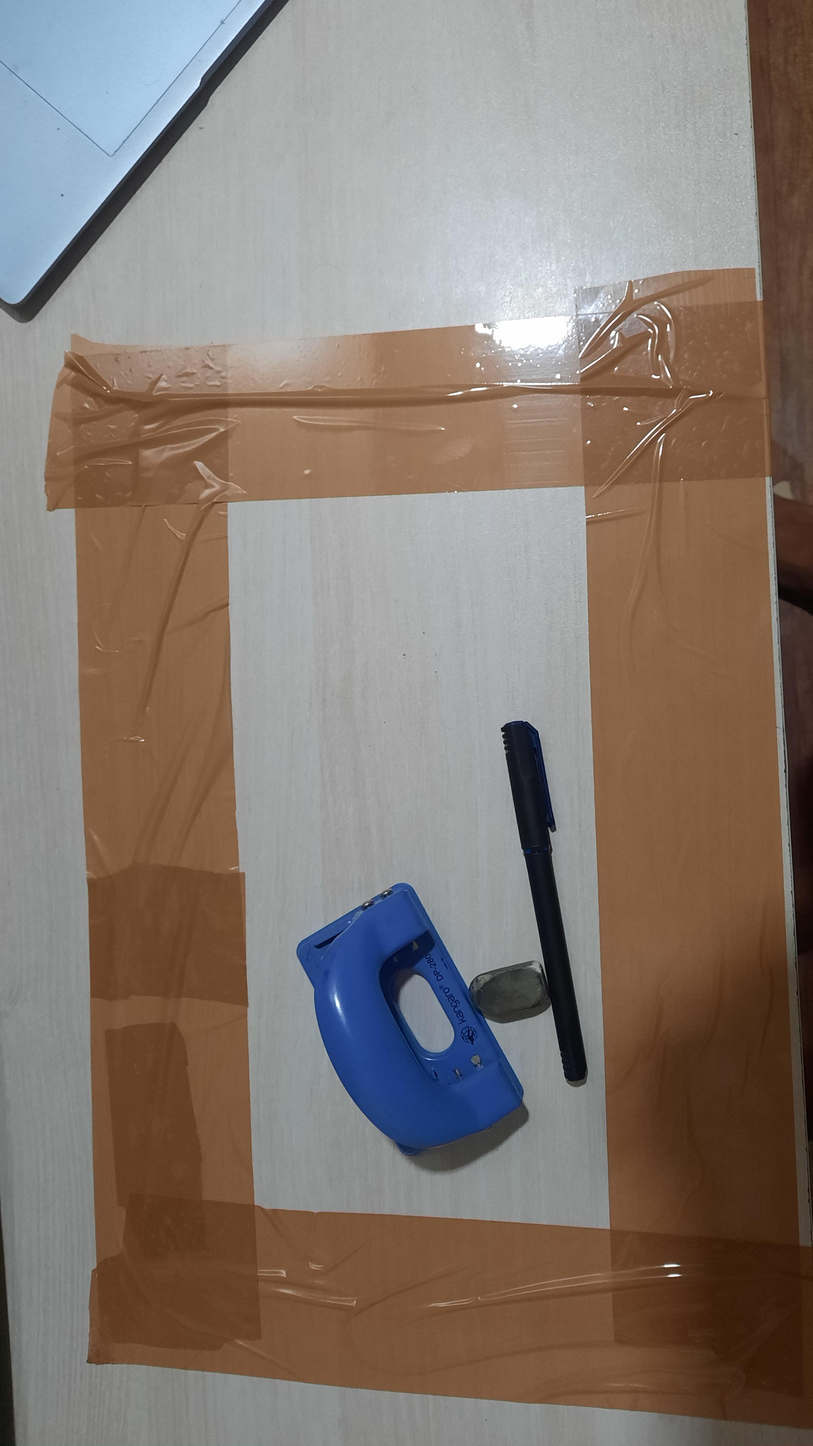Eraser: (469, 959, 552, 1024)
Pen: (500, 720, 588, 1087)
Punch: (295, 881, 526, 1156)
